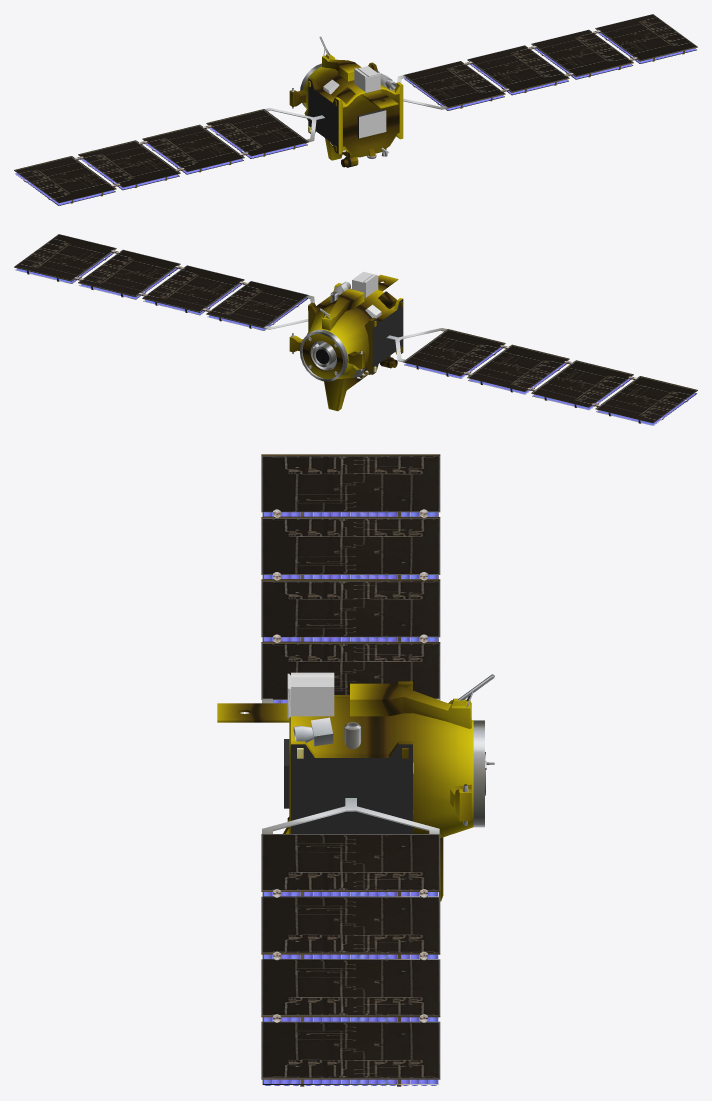
The picture shows the model from 3 angles, top to bottom: view 1: azimuth 30°, elevation 25°; view 2: azimuth 150°, elevation 25°; view 3: azimuth 270°, elevation 25°; orthographic projection. The views are drawn at different scales.
Parts seen in each view (by area): view 1: ds1_lod0; view 2: ds1_lod0; view 3: ds1_lod0.
Part boxes in pixels (x1,y1,x2,y2): ds1_lod0: [14, 14, 697, 205]; ds1_lod0: [14, 234, 697, 425]; ds1_lod0: [217, 454, 494, 1086].
Size of the model in its own units: 11.75 by 1.95 by 2.21.
Materials: 5 (3 with a texture image).
